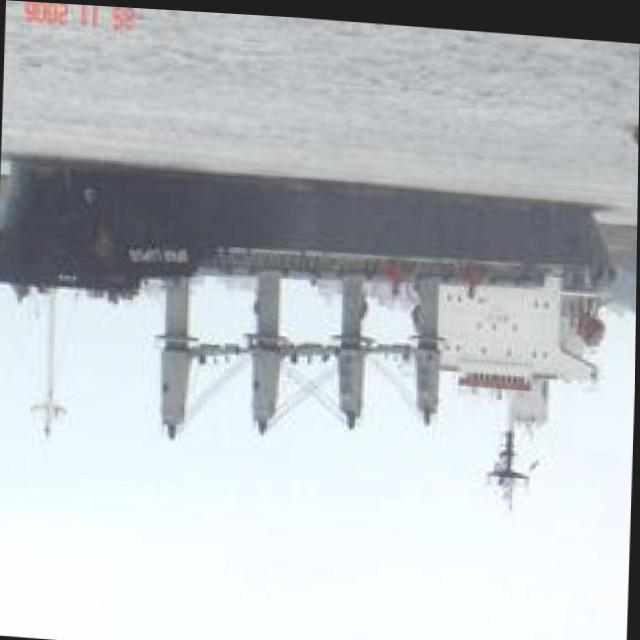ship2: (0, 157, 613, 511)
